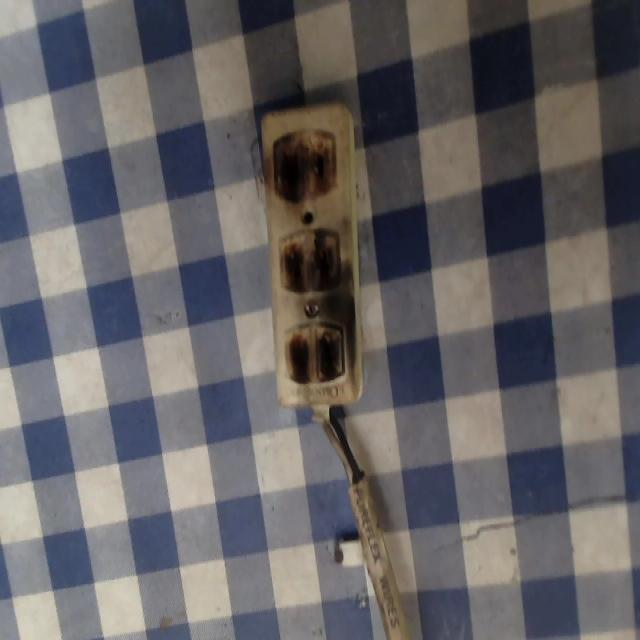-: (270, 222, 349, 298), (270, 125, 338, 203), (278, 316, 347, 388)
